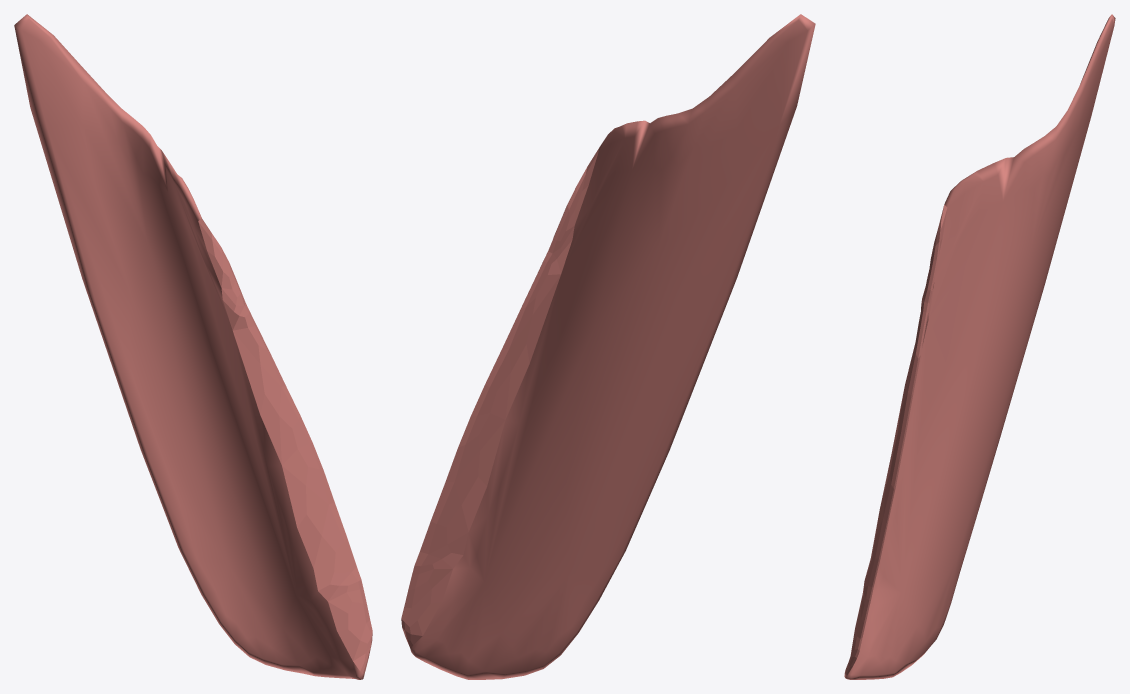
3 views of the same model, side by side, from view 1: azimuth 30°, elevation 25°; view 2: azimuth 210°, elevation 25°; view 3: azimuth 270°, elevation 25° (orthographic). The views are drawn at different scales.
Parts seen in each view (by area): view 1: ZA_1ff0e3df04d0685a; view 2: ZA_1ff0e3df04d0685a; view 3: ZA_1ff0e3df04d0685a.
Boxes of the visible parts, x1,y1,x2,y2 form: ZA_1ff0e3df04d0685a: [14, 14, 372, 679]; ZA_1ff0e3df04d0685a: [401, 14, 815, 679]; ZA_1ff0e3df04d0685a: [844, 14, 1115, 679].
Size of the model in its own units: 0.0149 by 0.0397 by 0.0167.
